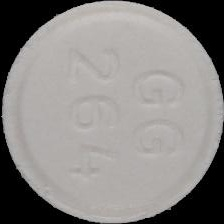67544-332: (0, 0, 224, 224)
